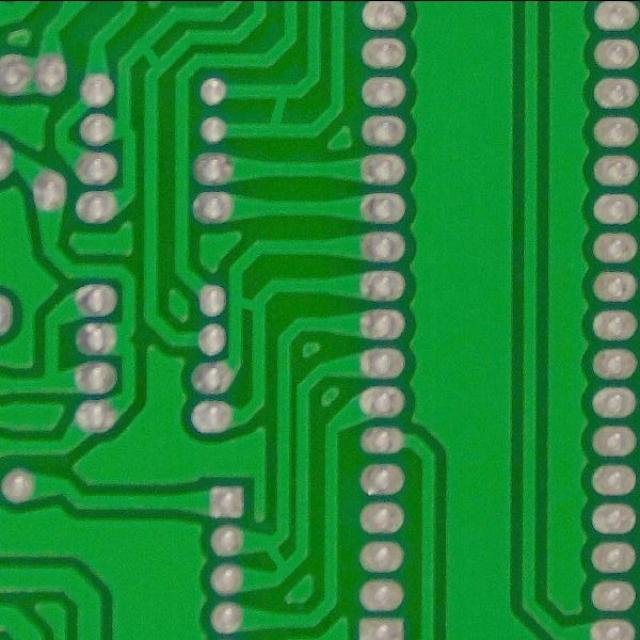Short_Circuit: (253, 76, 305, 147), (252, 528, 305, 583), (128, 31, 176, 79), (224, 287, 274, 324)
